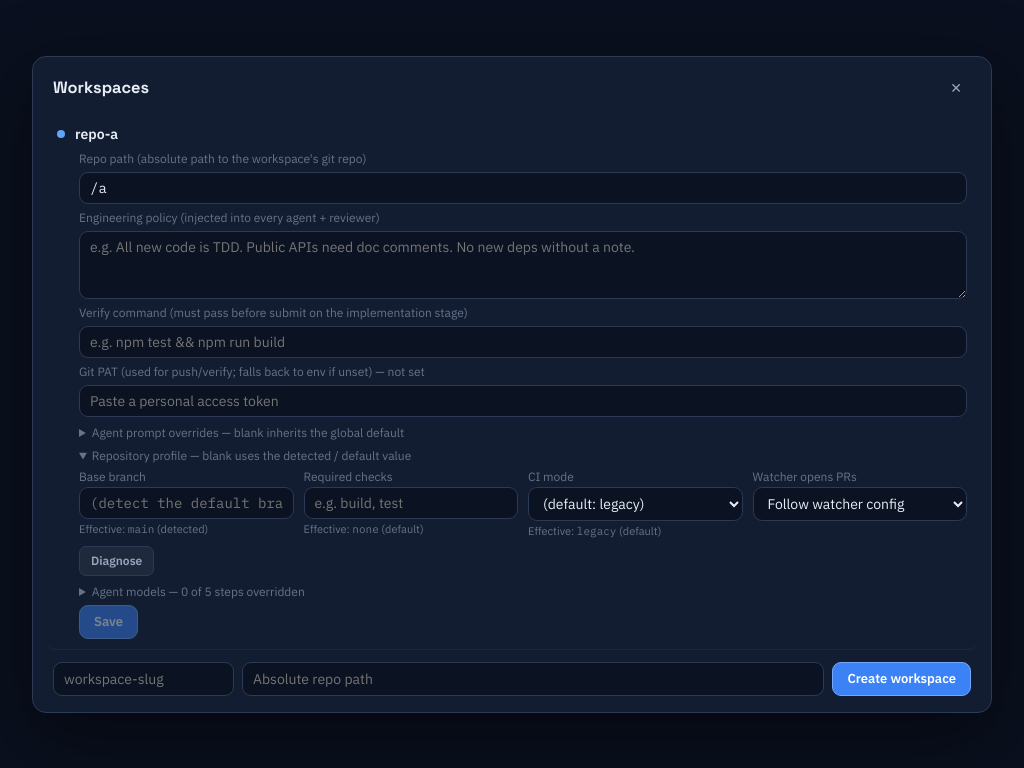
WorkspacesModal — repository profile › Diagnose runs the read-only check and lists every result with its status and reason
The width and height of the screenshot is (1024, 768).
Click the button "Diagnose": click(117, 560) [79,546,154,576]
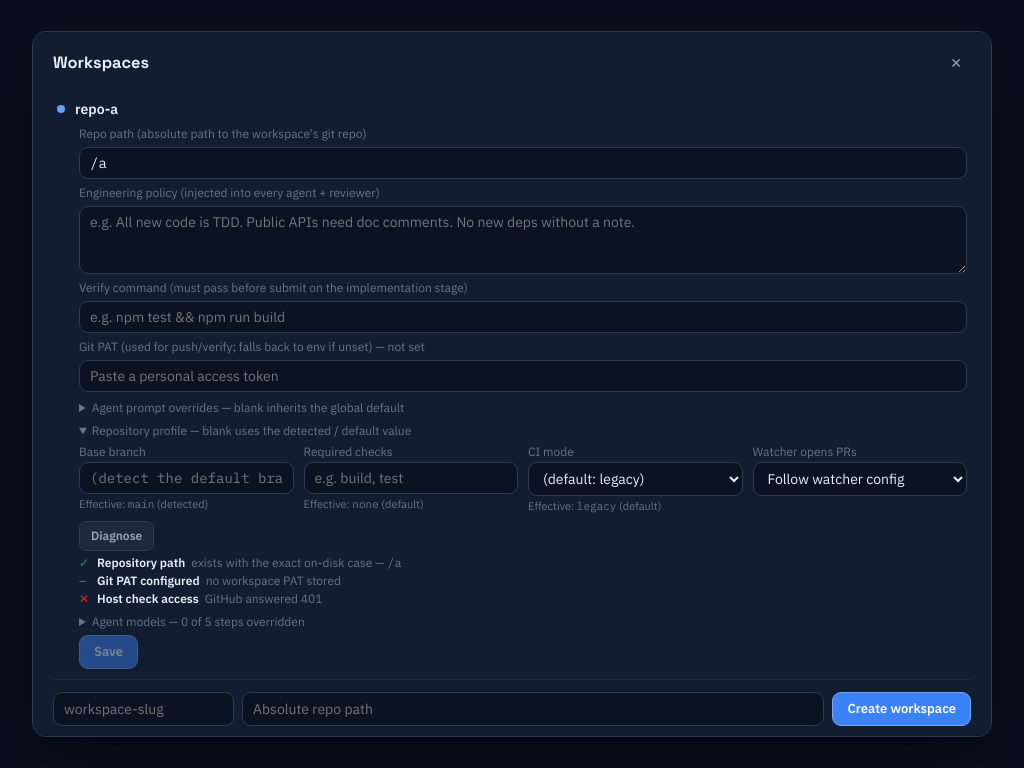
Expected: the number of list items with test id "diagnostic-row" is 3, [79,555,402,570]; [79,573,341,588]; [79,591,322,606]
Expected: the list item with test id "diagnostic-row" reads "✓ Repository path exists with the exact on-disk case — /a", [79,555,402,570]
Expected: the list item with test id "diagnostic-row" shows "401", [205,591,322,606]
